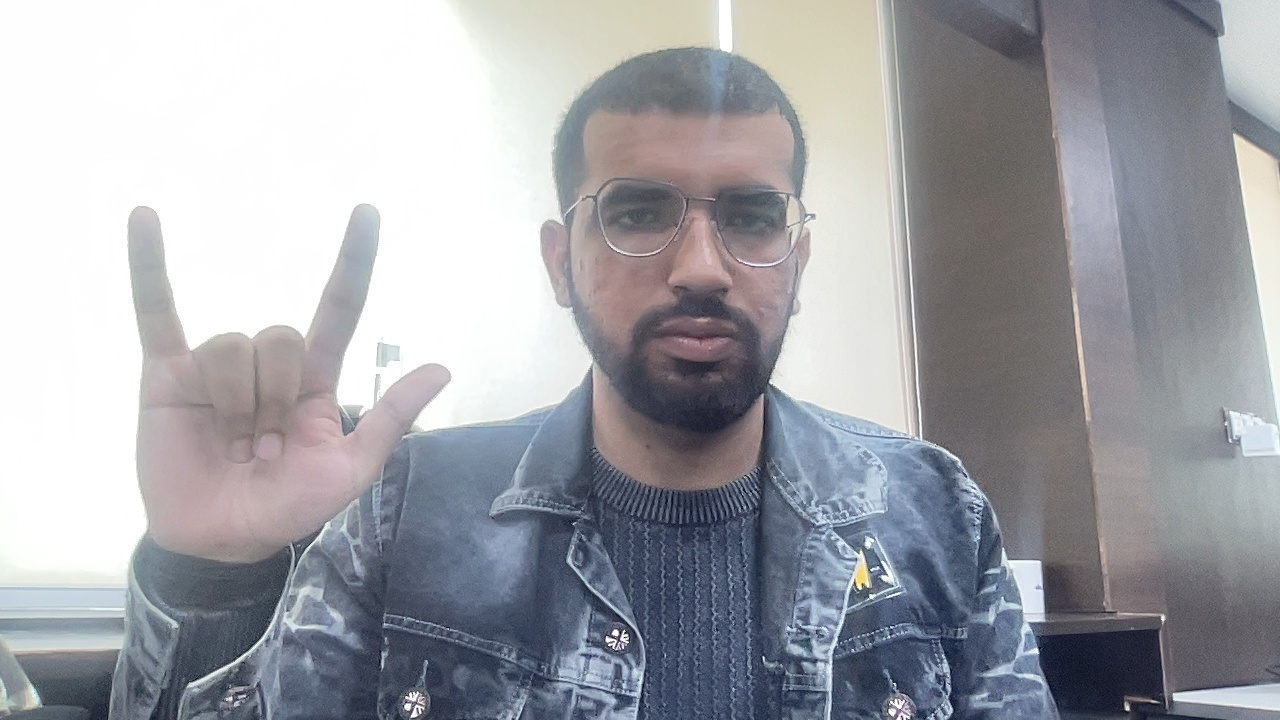I Love You: (68, 185, 474, 575)
